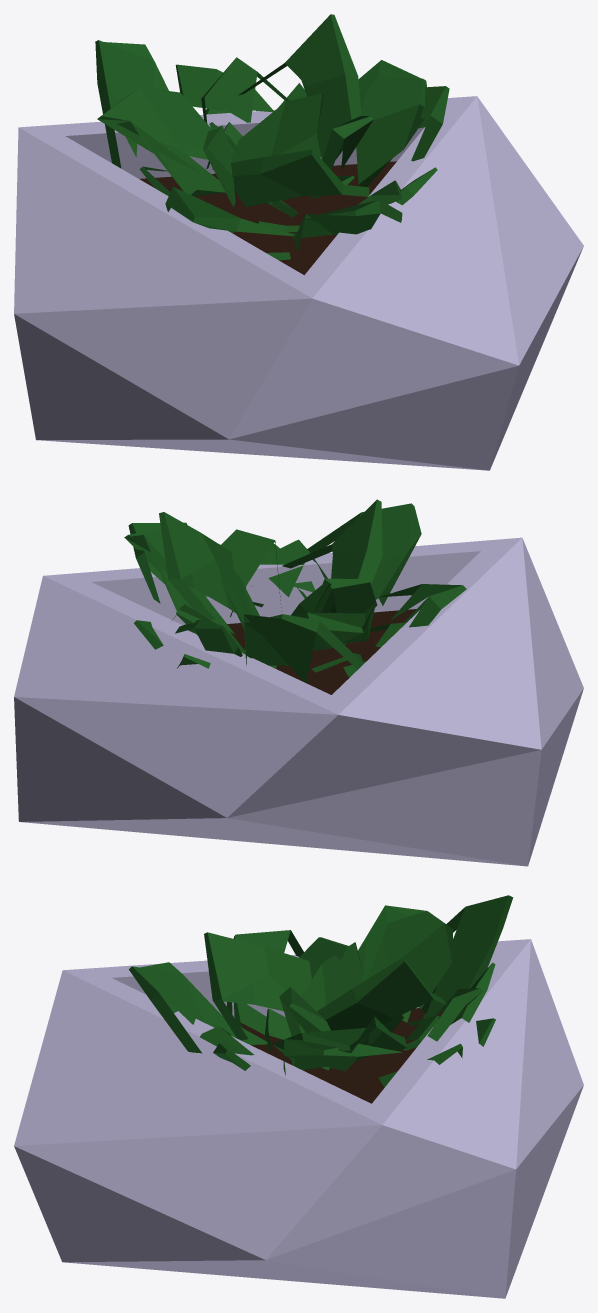
The model's file is plant3.fbx.
3 renders of one model, top to bottom at view 1: azimuth 30°, elevation 25°; view 2: azimuth 150°, elevation 25°; view 3: azimuth 270°, elevation 25°, orthographic. The views are drawn at different scales.
Visible parts, largest first — view 1: Cube.001; view 2: Cube.001; view 3: Cube.001.
Part boxes in pixels (<box>): Cube.001: <box>14,14,583,470</box>; Cube.001: <box>14,499,583,866</box>; Cube.001: <box>14,895,583,1298</box>.
Size of the model in its own units: 75.26 by 43.42 by 71.66.
